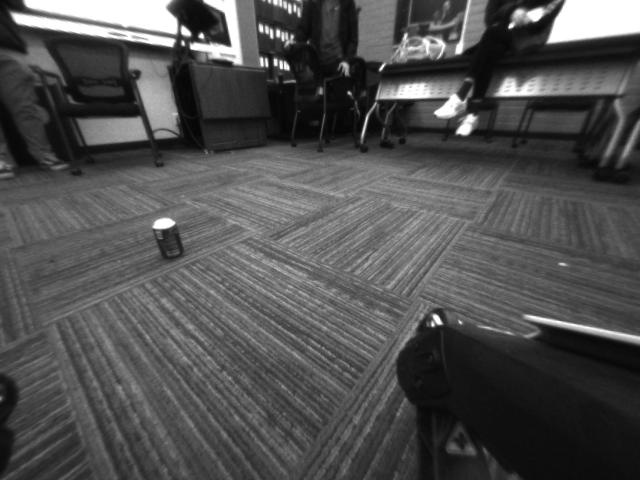can: (145, 209, 188, 269)
